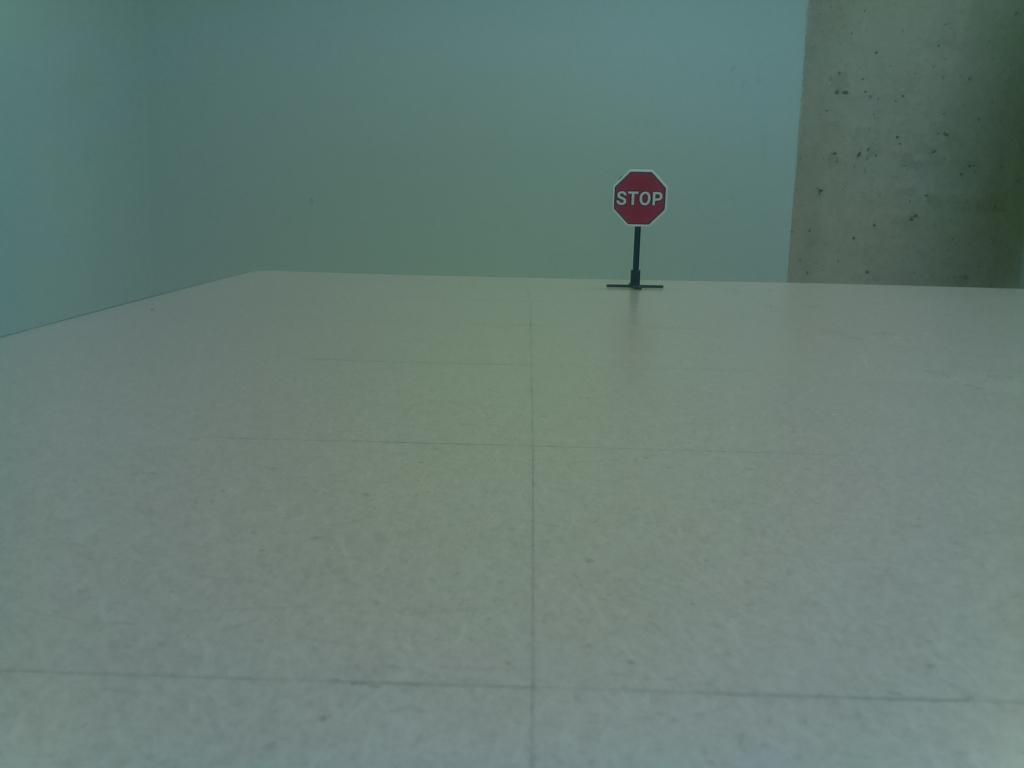sign_stop: (606, 166, 675, 231)
